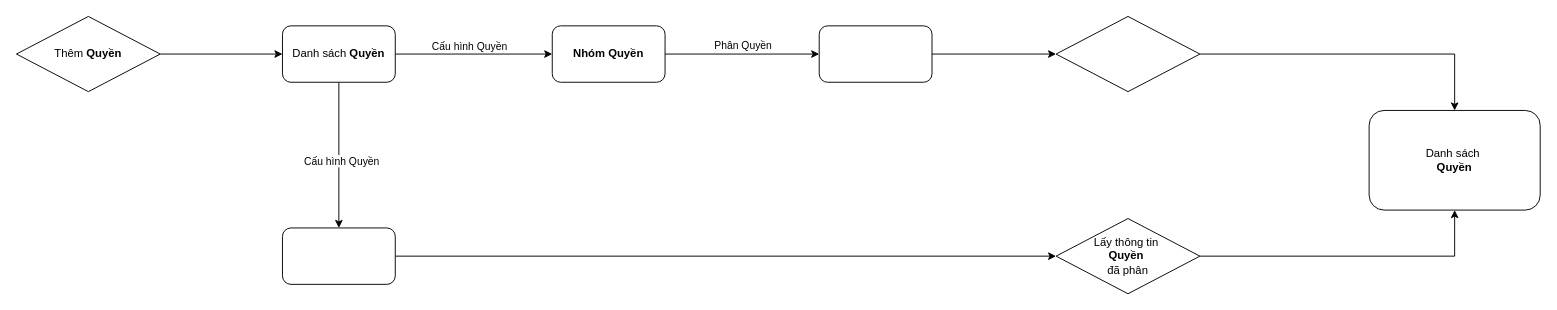
Image size: 1557x310. Some labels were removed from this diagram. Each missing label, with the box of its shape:
Danh mục động: (282, 227, 395, 284)
Lấy token: (1055, 16, 1200, 92)
Người dùng: (818, 25, 932, 82)
